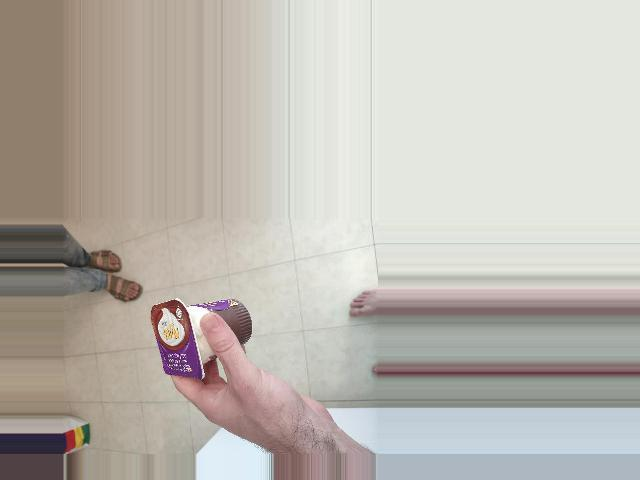milky: (147, 298, 259, 374)
